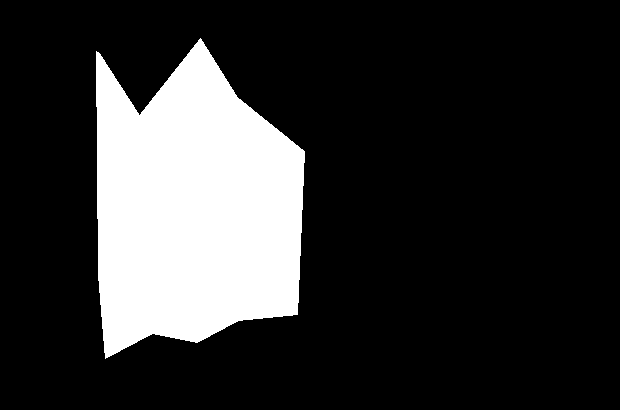type3s: (93, 35, 307, 363)
